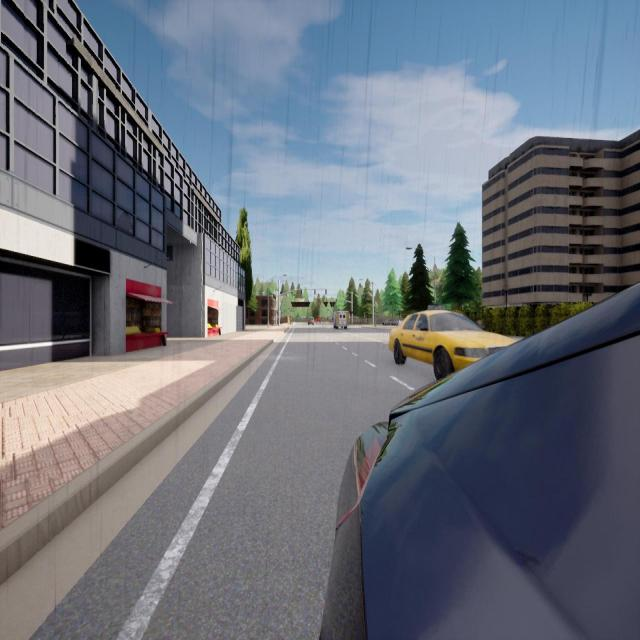Vehicle: (320, 284, 640, 638), (388, 310, 516, 380), (334, 311, 347, 329), (384, 320, 398, 326), (308, 317, 314, 325), (316, 317, 320, 323)
traffic_light: (314, 289, 316, 294), (351, 311, 353, 314), (301, 290, 302, 294), (318, 299, 319, 302), (336, 299, 337, 302), (327, 299, 327, 302), (326, 289, 326, 294)
